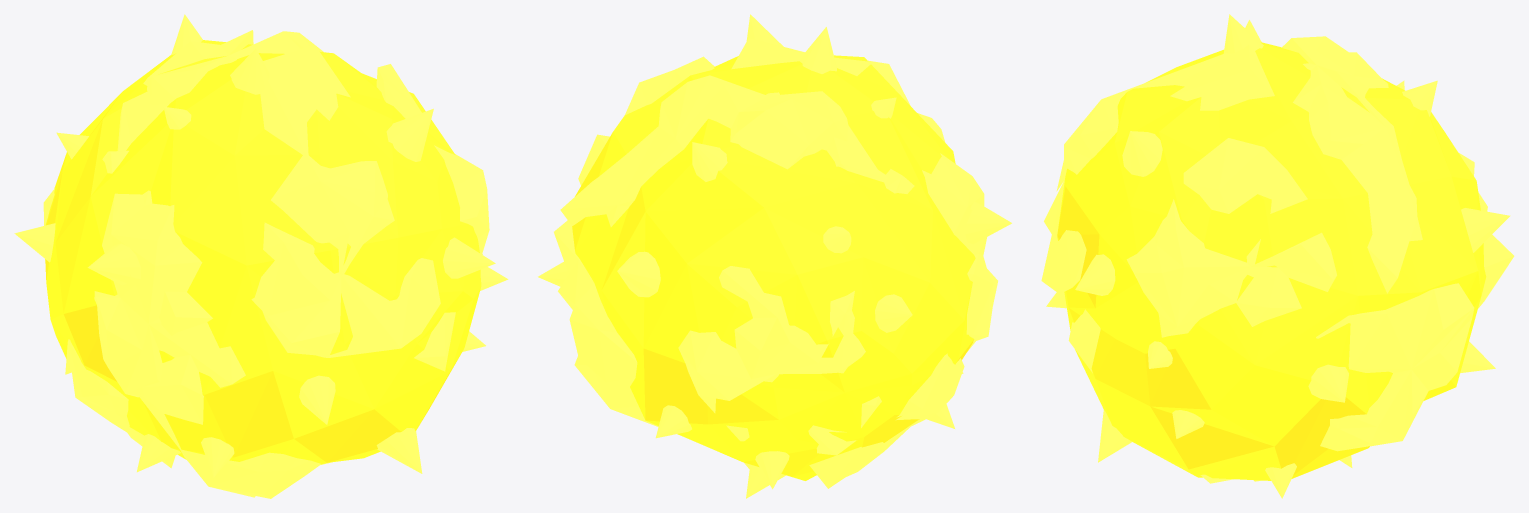
The model's file is Sun3.glb.
3 views of the same model, side by side, from view 1: azimuth 30°, elevation 25°; view 2: azimuth 150°, elevation 25°; view 3: azimuth 270°, elevation 25° (orthographic). The views are drawn at different scales.
Visible parts, largest first — view 1: Node-Mesh_1, Node-Mesh; view 2: Node-Mesh_1, Node-Mesh; view 3: Node-Mesh_1, Node-Mesh.
Boxes of the visible parts, x1,y1,x2,y2 form: Node-Mesh_1: (45, 40, 482, 464); Node-Mesh: (14, 14, 508, 498); Node-Mesh_1: (572, 55, 975, 480); Node-Mesh: (538, 14, 1011, 498); Node-Mesh_1: (1057, 42, 1486, 480); Node-Mesh: (1041, 14, 1514, 498).
Size of the model in its own units: 2.19 by 2.23 by 2.15.
